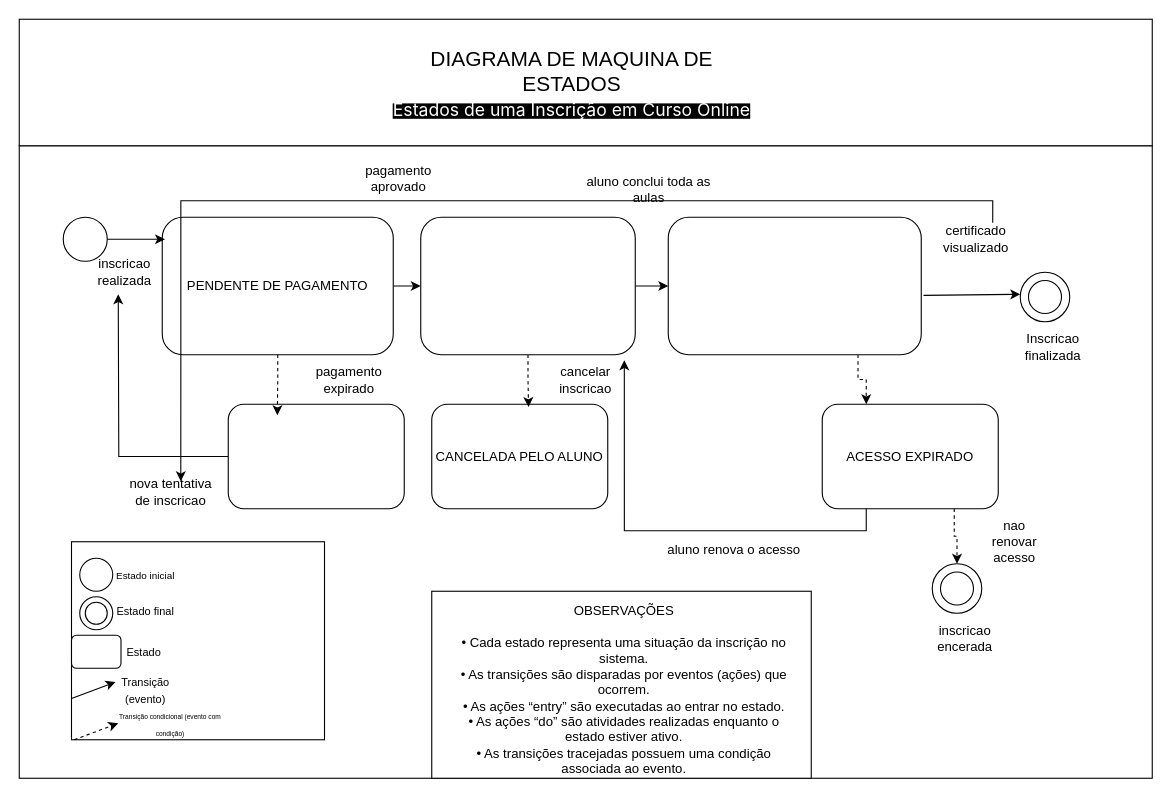
Image size: 1172x798. Some labels were removed from this diagram. Each missing label, with the box of its shape:
ATIVA: (420, 216, 635, 355)
CANCELADA: (227, 403, 404, 509)
COMCLUIDA: (667, 216, 921, 355)
